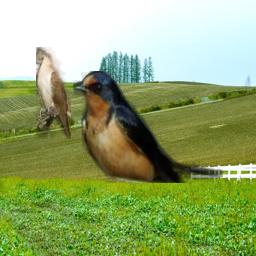Cuckoo: (36, 47, 71, 139)
Swallow: (73, 71, 223, 183)
